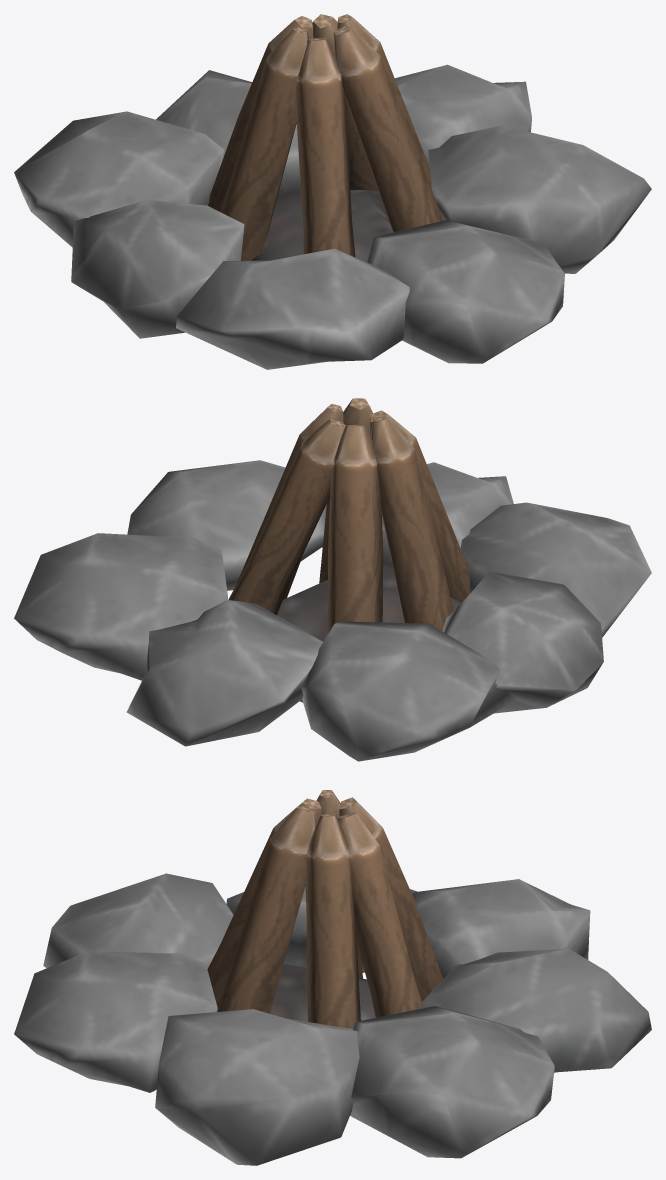
File: fire.fbx
The picture shows the model from 3 angles, top to bottom: view 1: azimuth 30°, elevation 25°; view 2: azimuth 150°, elevation 25°; view 3: azimuth 270°, elevation 25°; orthographic projection.
Parts seen in each view (by area): view 1: sm_campFire; view 2: sm_campFire; view 3: sm_campFire.
Part boxes in pixels (bbox=[...]): sm_campFire: bbox=[14, 14, 651, 369]; sm_campFire: bbox=[14, 398, 651, 761]; sm_campFire: bbox=[14, 790, 651, 1165].
Size of the model in its own units: 341 by 163 by 379.
1 material, 1 textured.
